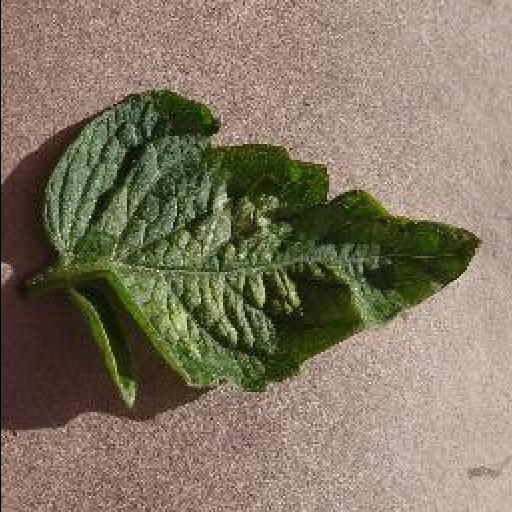disease_tomato: (42, 90, 476, 412)
